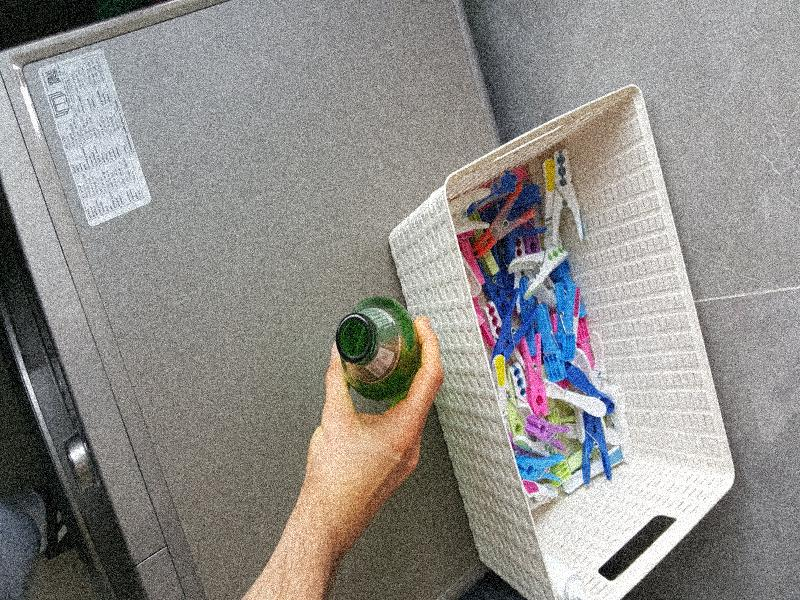Beer: (334, 295, 420, 402)
